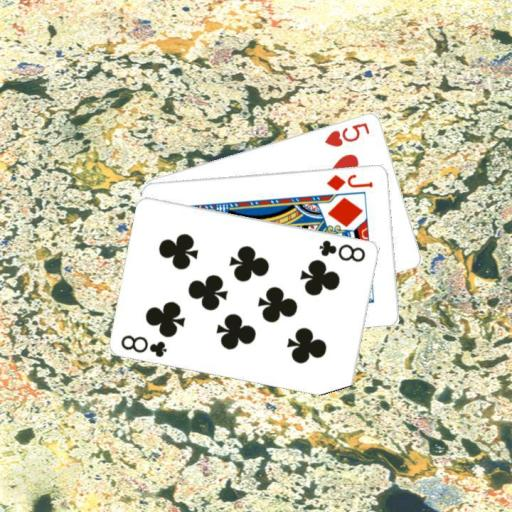5H: (321, 119, 372, 148)
8C: (317, 236, 368, 264), (118, 332, 169, 359)
JD: (324, 171, 375, 192)
